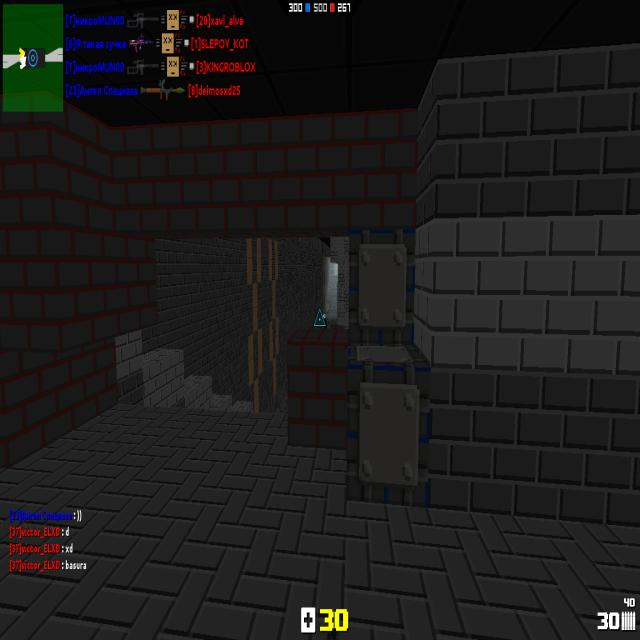enemy: (322, 313, 328, 329)
